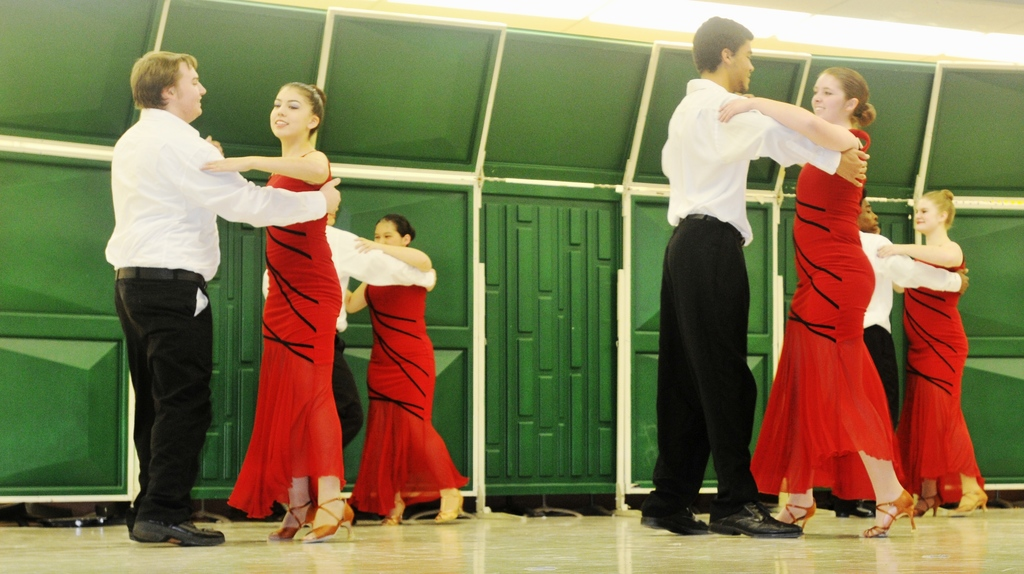Person: (640, 15, 870, 535), (104, 51, 341, 543), (717, 66, 915, 537), (201, 80, 353, 543), (836, 190, 969, 518), (262, 209, 434, 447), (344, 214, 469, 523), (878, 188, 988, 516)
